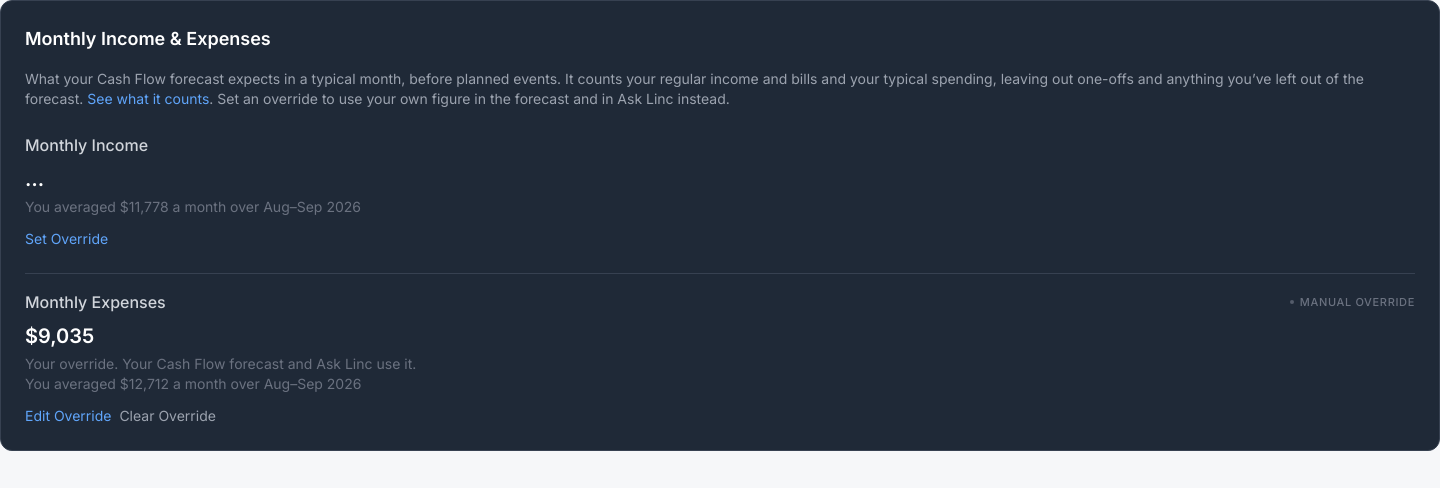
Test: IncomeExpenseOverrides › asks the forecast again once an override is cleared
This screenshot has width=1440, height=488.
Expected: the text "$9,035" is shown, [25,324,94,348]
Click the button "Clear Override" at (168, 416), box [119,406,216,426]
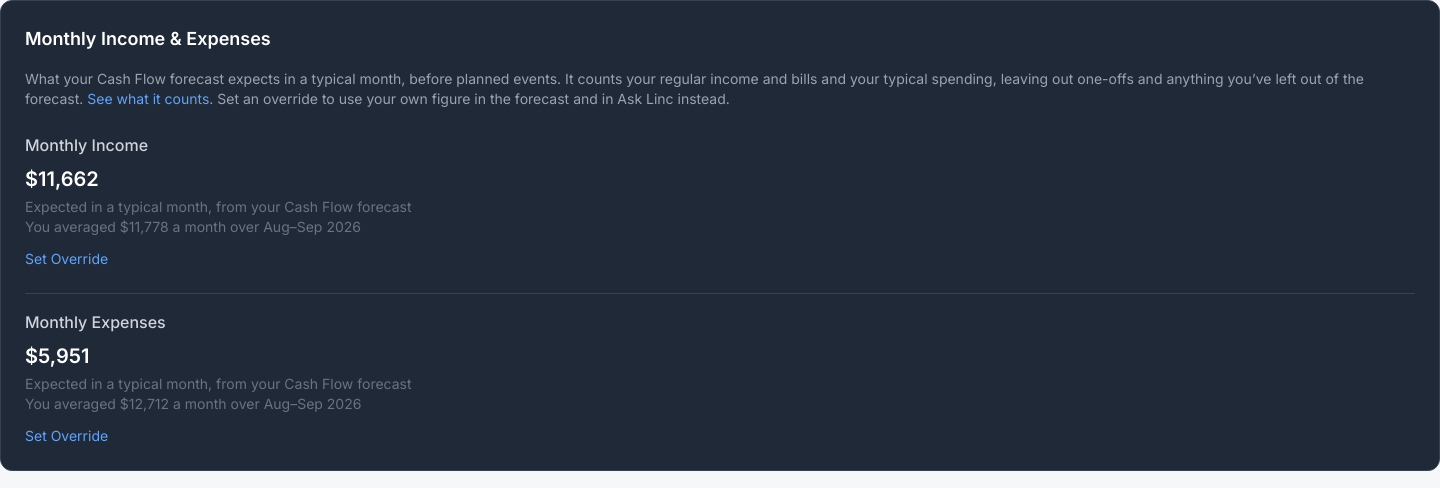
Expected: the text "$5,951" is shown, [25,344,89,368]
